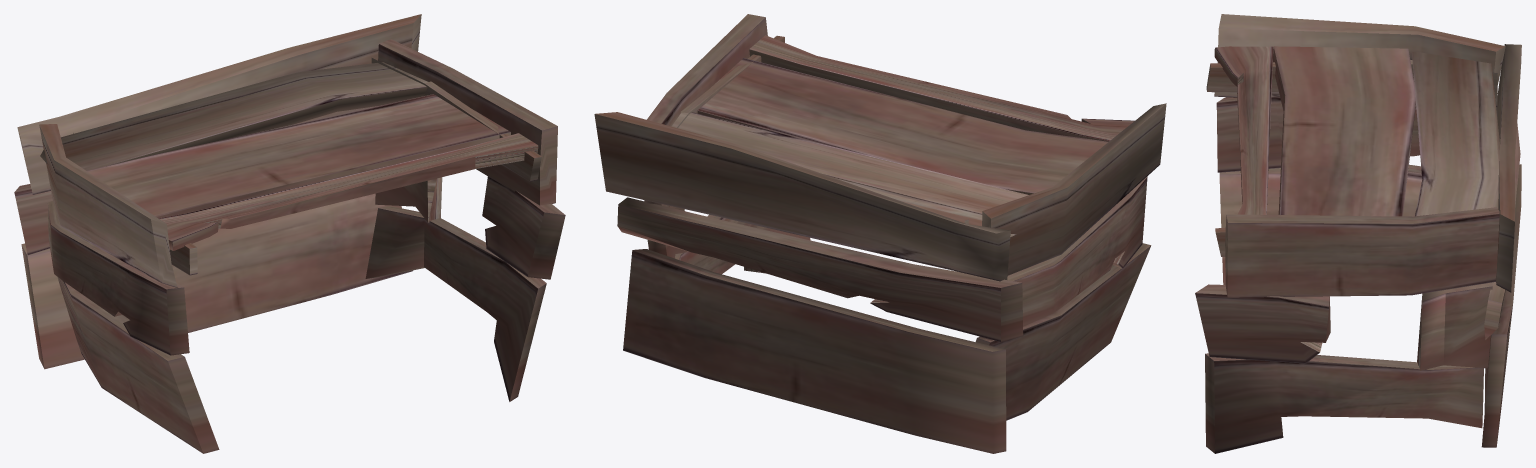
Rendered from desk_shanty.fbx.
3 views of the same model, side by side, from view 1: azimuth 30°, elevation 25°; view 2: azimuth 150°, elevation 25°; view 3: azimuth 270°, elevation 25° (orthographic).
Visible parts, largest first — view 1: plank_41, plank_64, plank_47, plank_67, plank_71, plank_62, plank_66, plank_61, plank_1, plank_57, plank_68, plank_69 (+3 smaller); view 2: plank_64, plank_71, plank_41, plank_69, plank_61, plank_47, plank_62, plank_66, plank_1, plank_57, plank_67, plank_13; view 3: plank_41, plank_57, plank_67, plank_47, plank_68, plank_61, plank_66, plank_70, plank_71, plank_64, plank_1, plank_62 (+2 smaller).
Boxes of the visible parts, <box> form: plank_41: <box>87,94,510,218</box>; plank_64: <box>21,193,412,369</box>; plank_47: <box>40,62,427,170</box>; plank_67: <box>365,206,546,401</box>; plank_71: <box>17,14,421,194</box>; plank_62: <box>57,277,219,453</box>; plank_66: <box>158,133,538,250</box>; plank_61: <box>39,124,177,287</box>; plank_1: <box>47,201,189,355</box>; plank_57: <box>378,39,557,205</box>; plank_68: <box>482,176,565,279</box>; plank_69: <box>14,184,52,255</box>; plank_64: <box>623,249,1006,453</box>; plank_71: <box>594,112,1010,281</box>; plank_41: <box>697,58,1108,194</box>; plank_69: <box>617,197,1023,341</box>; plank_61: <box>982,103,1166,275</box>; plank_47: <box>671,112,1028,236</box>; plank_62: <box>975,243,1151,420</box>; plank_66: <box>749,35,1134,141</box>; plank_1: <box>979,176,1147,340</box>; plank_57: <box>647,14,767,126</box>; plank_67: <box>675,214,810,274</box>; plank_13: <box>677,35,784,127</box>; plank_41: <box>1273,46,1415,216</box>; plank_57: <box>1225,207,1499,297</box>; plank_67: <box>1205,353,1483,453</box>; plank_47: <box>1411,52,1499,216</box>; plank_68: <box>1195,284,1330,363</box>; plank_61: <box>1214,14,1505,105</box>; plank_66: <box>1214,46,1273,214</box>; plank_70: <box>1417,282,1492,370</box>; plank_71: <box>1495,44,1521,292</box>; plank_64: <box>1481,164,1521,447</box>; plank_1: <box>1216,96,1420,172</box>; plank_62: <box>1219,164,1422,284</box>.
Size of the model in its own units: 567 by 342 by 385.
Materials: 1 (1 with a texture image).
